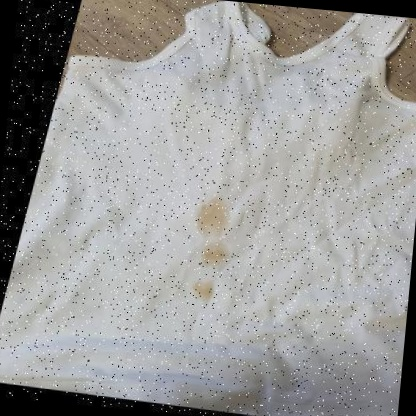coffee: (197, 197, 229, 235), (202, 243, 227, 268), (194, 278, 213, 300)
